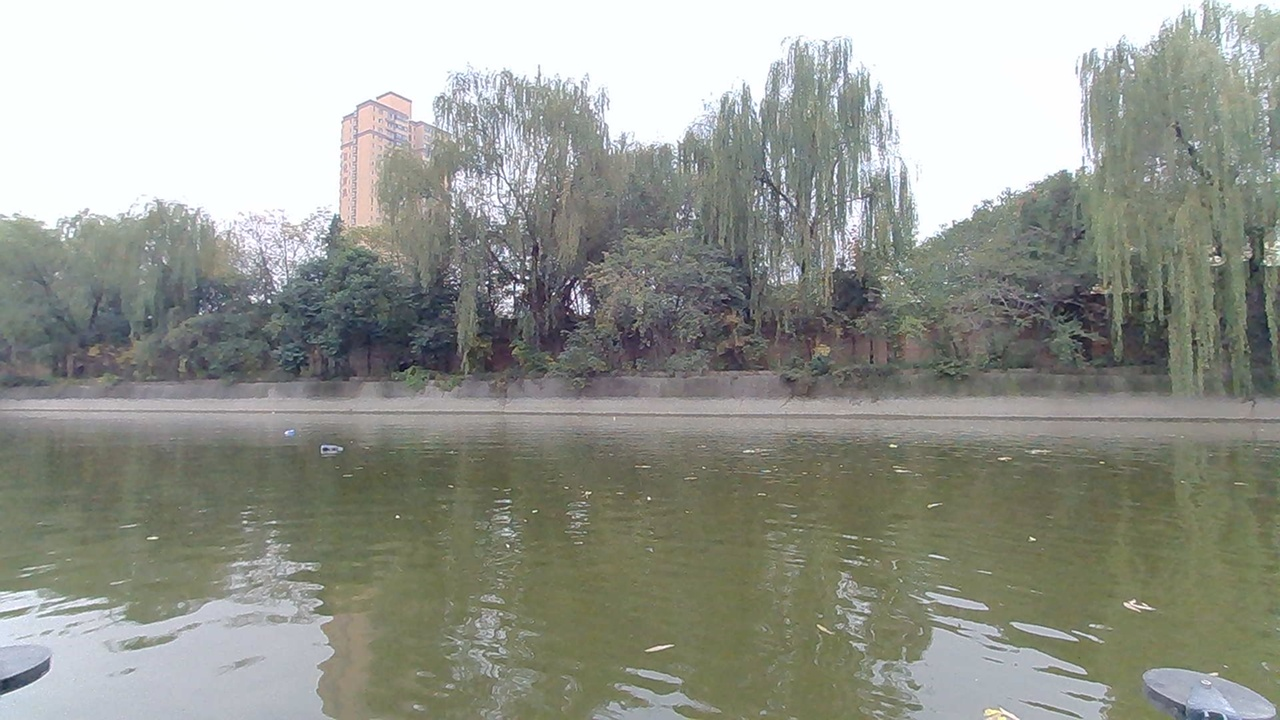bottle: (308, 427, 352, 455), (275, 421, 308, 445)
